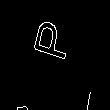P_W: (28, 17, 76, 66)
